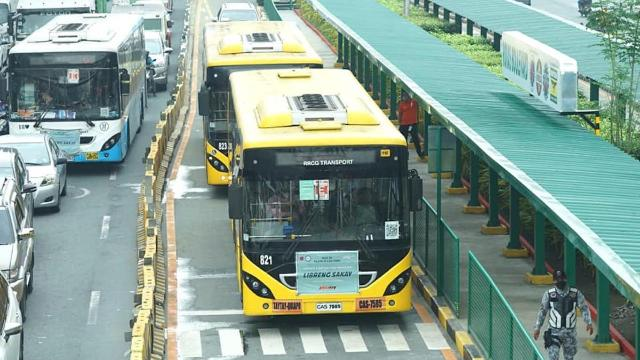bus: (221, 64, 413, 318), (8, 12, 149, 164), (200, 17, 325, 184)
car: (0, 126, 69, 210), (145, 34, 170, 90)
